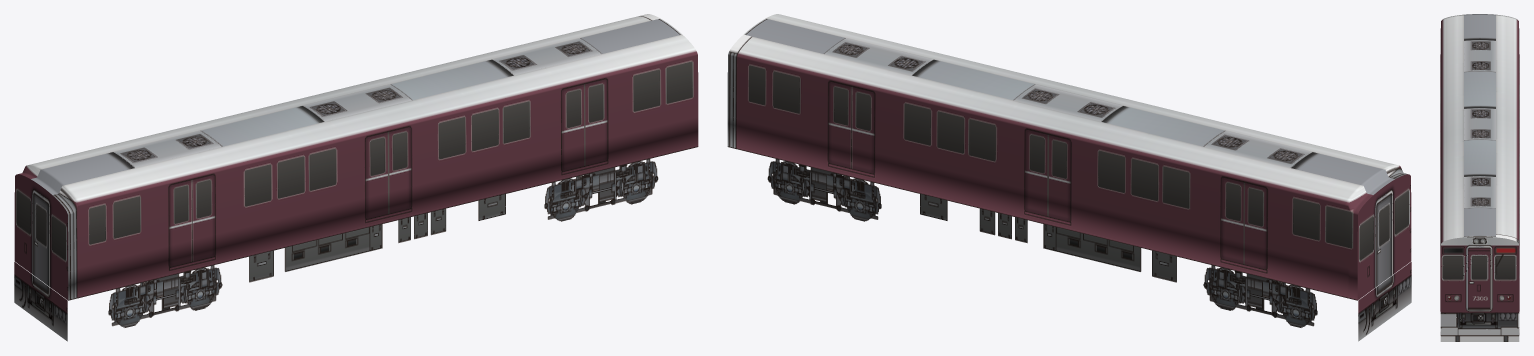
The model's file is car2.glb.
The picture shows the model from 3 angles, left to right: view 1: azimuth 30°, elevation 25°; view 2: azimuth 150°, elevation 25°; view 3: azimuth 270°, elevation 25°; orthographic projection. The views are drawn at different scales.
Parts seen in each view (by area): view 1: hankyu-7300-car2; view 2: hankyu-7300-car2; view 3: hankyu-7300-car2.
Boxes of the visible parts, bbox=[...] form: hankyu-7300-car2: bbox=[14, 14, 698, 341]; hankyu-7300-car2: bbox=[727, 14, 1411, 341]; hankyu-7300-car2: bbox=[1440, 14, 1519, 341].
Size of the model in its own units: 18.93 by 4.09 by 2.8.
Materials: 8 (7 with a texture image).
